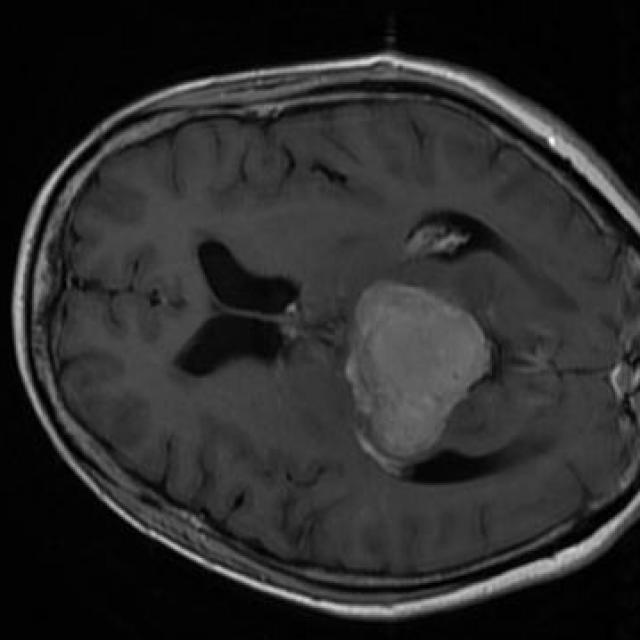meningioma: (346, 280, 494, 460)
